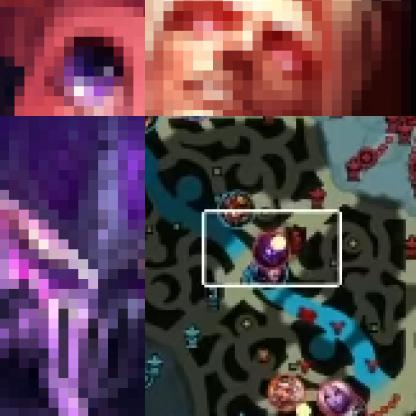Jarvan IV: (221, 194, 255, 228)
Jhin: (331, 393, 368, 415)
Kassadin: (0, 116, 144, 415)
Leblanc: (253, 255, 289, 290)
Malzahar: (252, 233, 289, 269)
Qiyana: (268, 372, 310, 414)
Renekton: (145, 116, 159, 133)
Soraka: (315, 380, 356, 415)
Vladimir: (145, 0, 415, 115)
Zoe: (0, 0, 144, 115)
